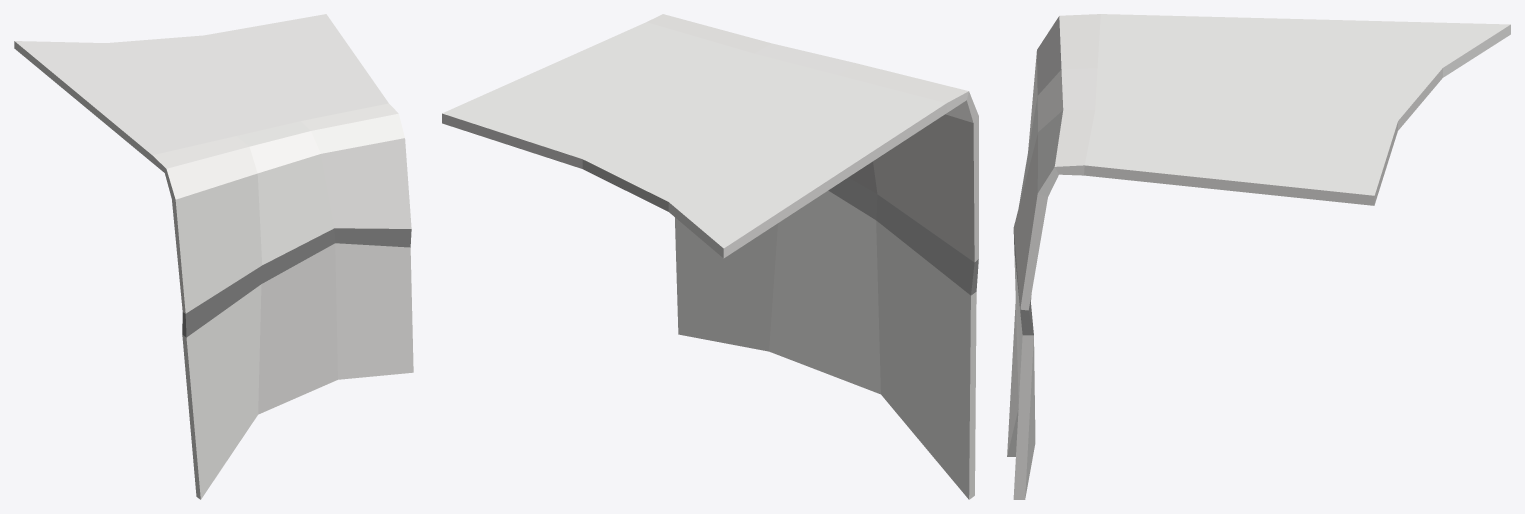
Rendered from Towel_5.fbx.
3 renders of one model, left to right at view 1: azimuth 30°, elevation 25°; view 2: azimuth 150°, elevation 25°; view 3: azimuth 270°, elevation 25°, orthographic. The views are drawn at different scales.
Parts seen in each view (by area): view 1: Towel_5; view 2: Towel_5; view 3: Towel_5.
Part boxes in pixels (bbox=[...]): Towel_5: bbox=[14, 14, 413, 499]; Towel_5: bbox=[442, 14, 978, 499]; Towel_5: bbox=[1007, 14, 1510, 499].
Size of the model in its own units: 30.52 by 35.71 by 33.94.
